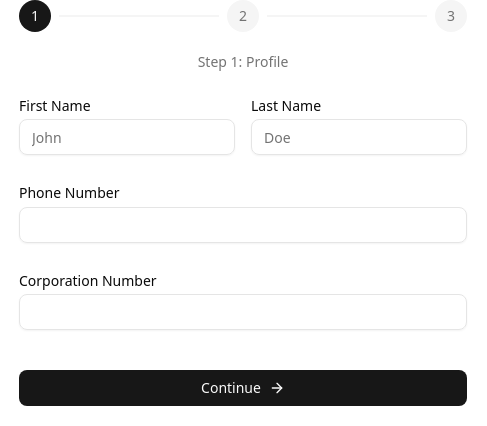
Test: OnboardingPage › Step 1: Profile Form › shows validation error for corporation number not 9 digits
The width and height of the screenshot is (487, 426).
Type "12345" into the field labelled "Corporation Number".
click(243, 312); type("12345")  # box [19, 294, 467, 330]
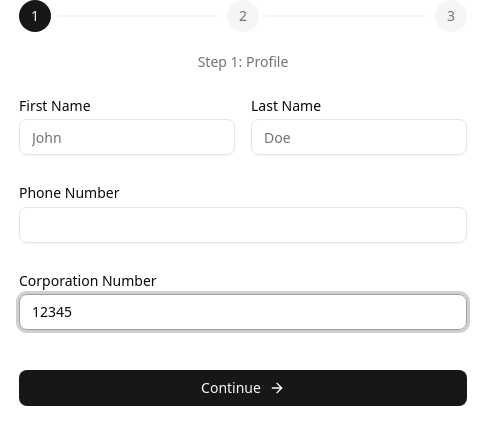
Press Tab
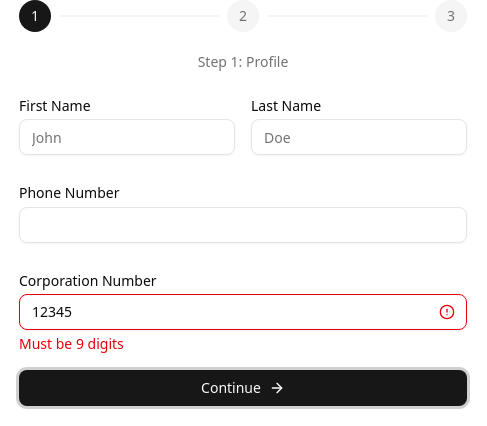
Check: the text "Must be 9 digits" is shown, box [19, 334, 124, 353]
